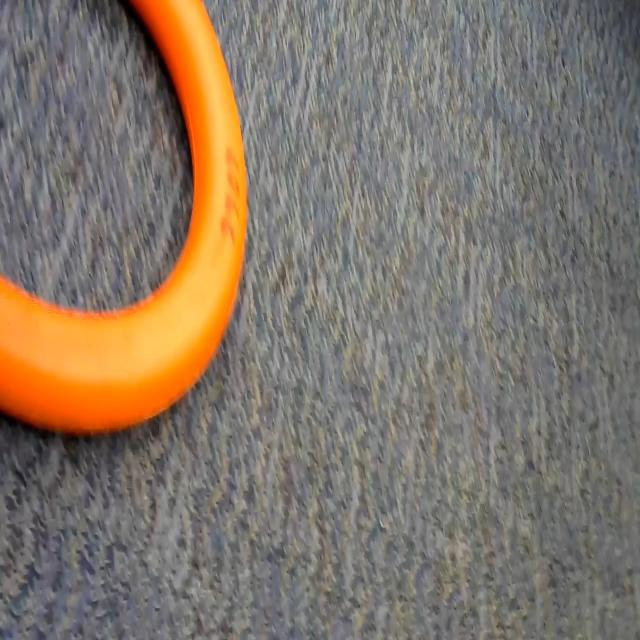note: (0, 0, 258, 460)
